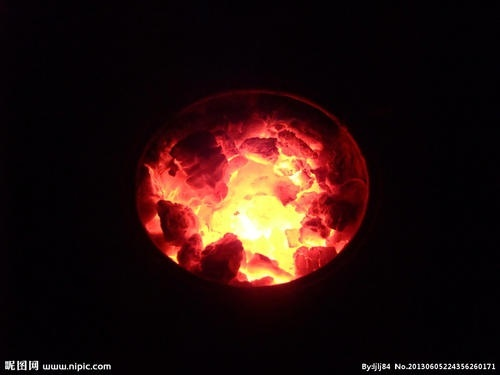fire: (146, 122, 334, 285)
